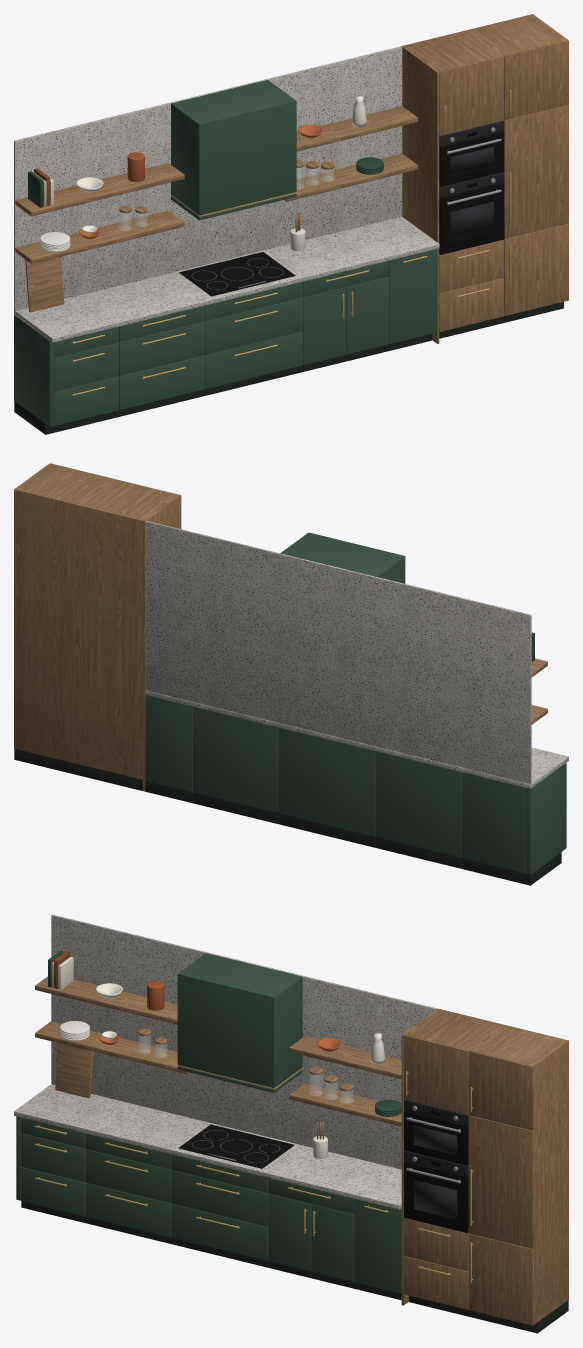
File: kitchen-run.glb
3 renders of one model, top to bottom at view 1: azimuth 30°, elevation 25°; view 2: azimuth 150°, elevation 25°; view 3: azimuth 330°, elevation 25°, orthographic.
Parts seen in each view (by area): view 1: kitchen-run; view 2: kitchen-run; view 3: kitchen-run.
Part boxes in pixels (box(x1,y1,x2,y2)): kitchen-run: box(14, 14, 568, 434); kitchen-run: box(14, 463, 568, 885); kitchen-run: box(14, 914, 568, 1333).
Bounding box in the file's own units: 4.8 × 2.4 × 0.629.
30 materials, 3 textured.
